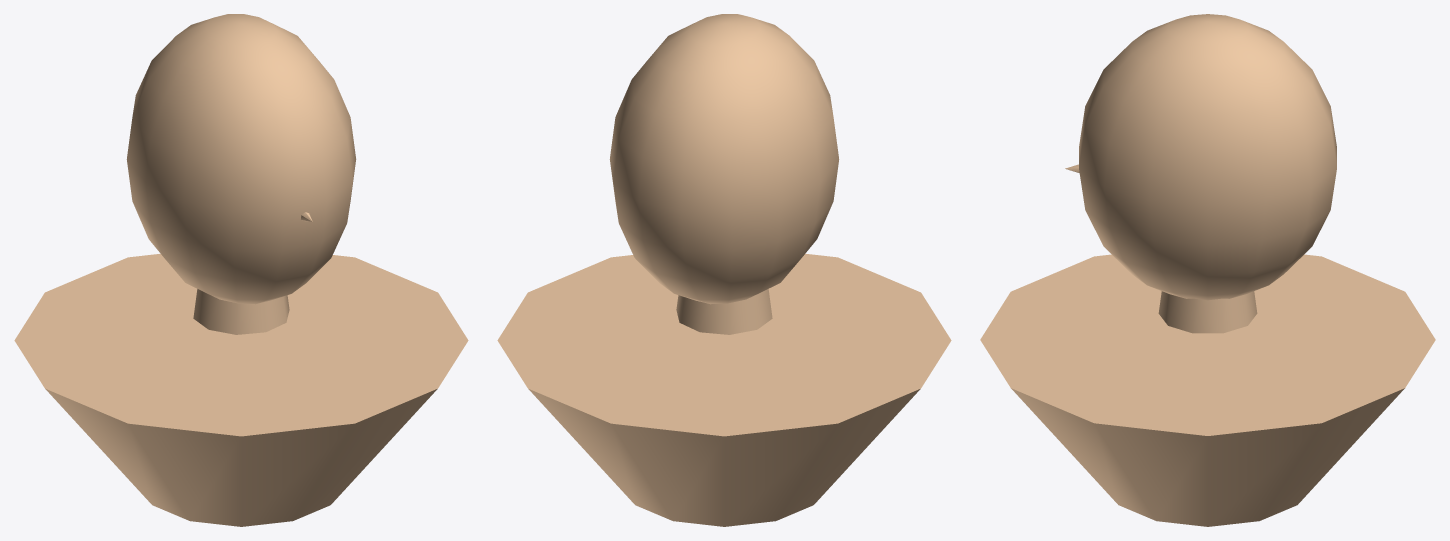
File: portrait11m_003.glb
3 renders of one model, left to right at view 1: azimuth 30°, elevation 25°; view 2: azimuth 150°, elevation 25°; view 3: azimuth 270°, elevation 25°, orthographic.
Bounding box in the file's own units: 1.94 × 2.17 × 1.94.
